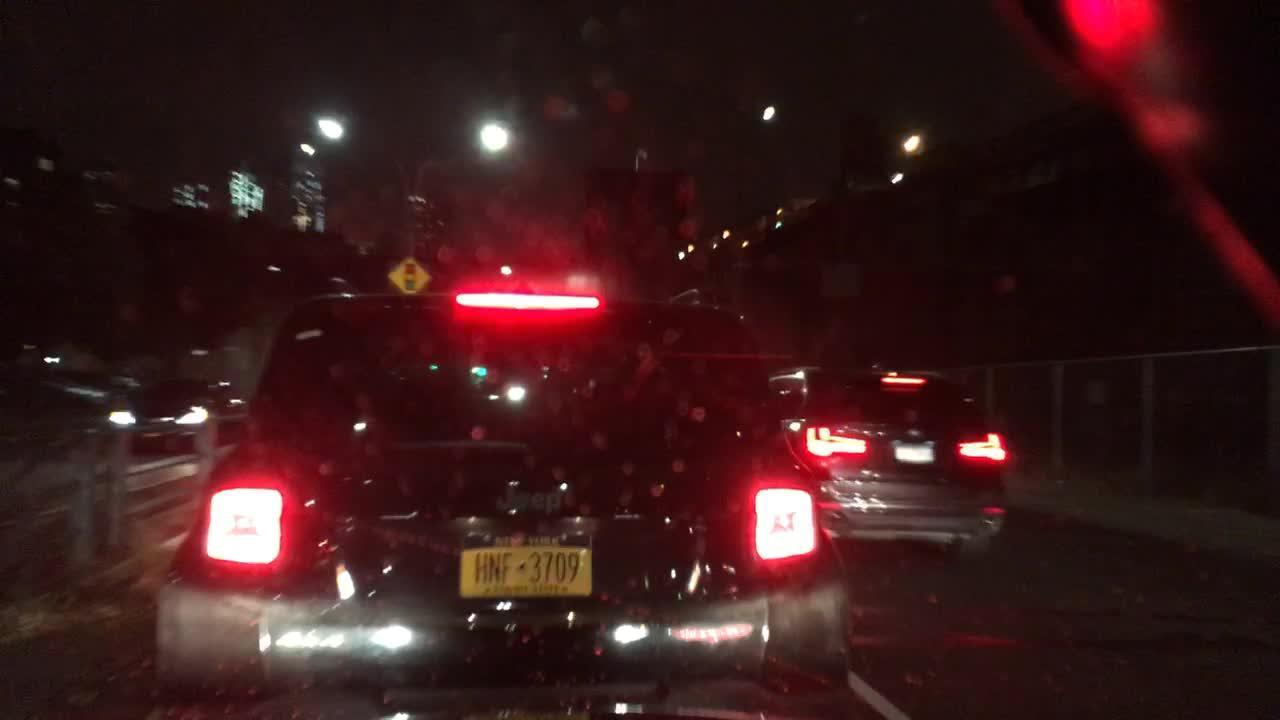jeep: (482, 474, 581, 525)
